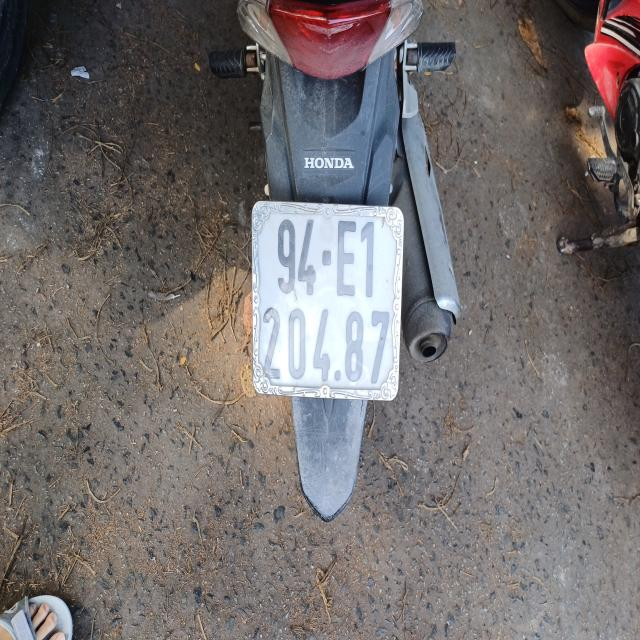0: (288, 304, 308, 382)
1: (360, 218, 376, 298)
2: (261, 306, 282, 382)
4: (297, 218, 317, 298), (313, 308, 332, 383)
7: (369, 311, 391, 384)
8: (343, 311, 364, 383)
9: (274, 217, 298, 296)
E: (336, 219, 357, 297)
